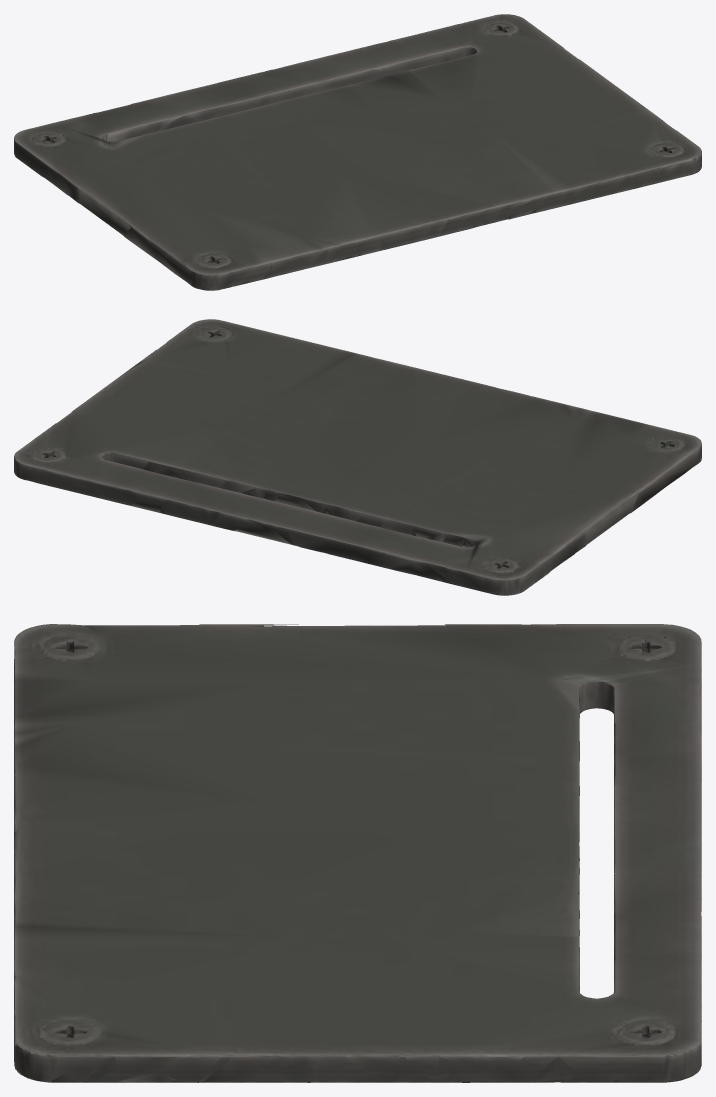
The model's file is piece_panel_reinforced.glb.
3 renders of one model, top to bottom at view 1: azimuth 30°, elevation 25°; view 2: azimuth 150°, elevation 25°; view 3: azimuth 270°, elevation 25°, orthographic. The views are drawn at different scales.
Parts seen in each view (by area): view 1: trait_panel_reinforced; view 2: trait_panel_reinforced; view 3: trait_panel_reinforced.
Boxes of the visible parts, x1,y1,x2,y2 form: trait_panel_reinforced: [14, 14, 701, 290]; trait_panel_reinforced: [14, 319, 701, 595]; trait_panel_reinforced: [14, 624, 701, 1082].
Size of the model in its own units: 0.2869 by 0.00901 by 0.1931.
Materials: 1 (1 with a texture image).
